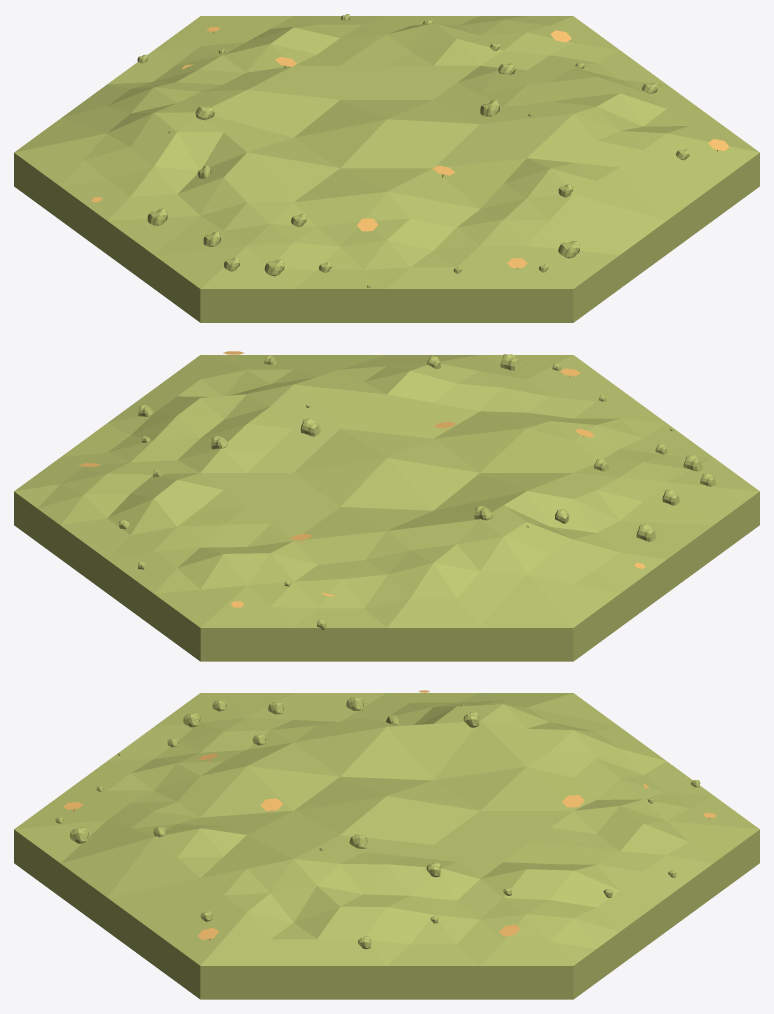
Rendered from grassland.glb.
The picture shows the model from 3 angles, top to bottom: view 1: azimuth 30°, elevation 25°; view 2: azimuth 150°, elevation 25°; view 3: azimuth 270°, elevation 25°; orthographic projection.
Parts seen in each view (by area): view 1: land, rocks, flowers; view 2: land, rocks, flowers; view 3: land, rocks, flowers.
Part boxes in pixels (box(x1,y1,x2,y2)): land: box(14, 16, 759, 322); rocks: box(137, 14, 689, 287); flowers: box(91, 26, 729, 268); land: box(14, 355, 759, 661); rocks: box(119, 354, 716, 629); flowers: box(79, 351, 645, 608); land: box(14, 693, 759, 999); rocks: box(55, 697, 700, 949); flowers: box(63, 690, 716, 940).
Bounding box in the file's own units: 1.73 × 0.243 × 2.
